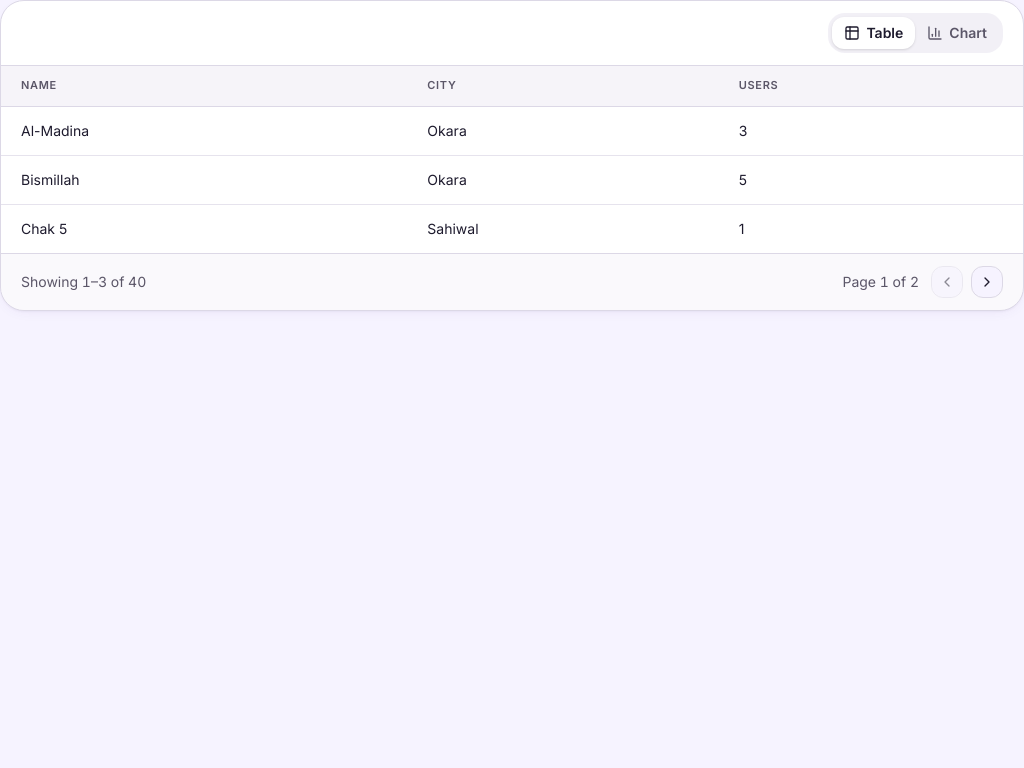
DataTable chart view › keeps the pager when it charts only the loaded page
Click the button "Chart" at point(957, 33), box [915,17,999,49]
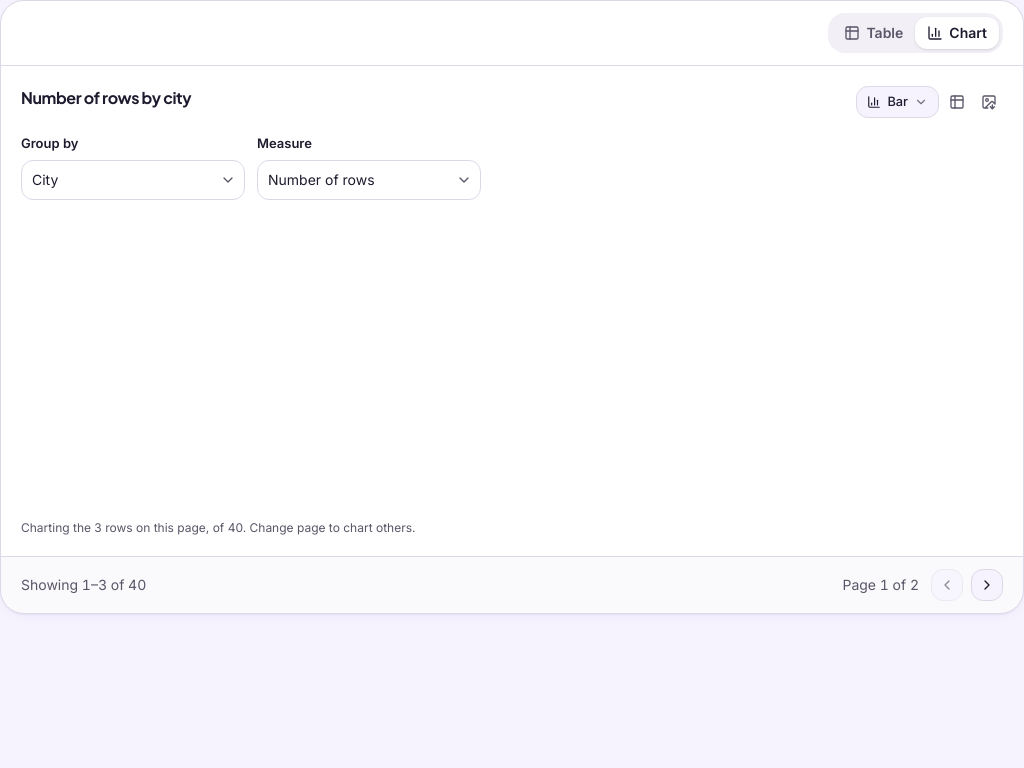
Expected: the navigation bar named "Pages" is shown, [1,556,1023,612]
Expected: the text "Charting the 3 rows on this page, of 40. Change page to chart others." is shown, [21,520,416,534]
